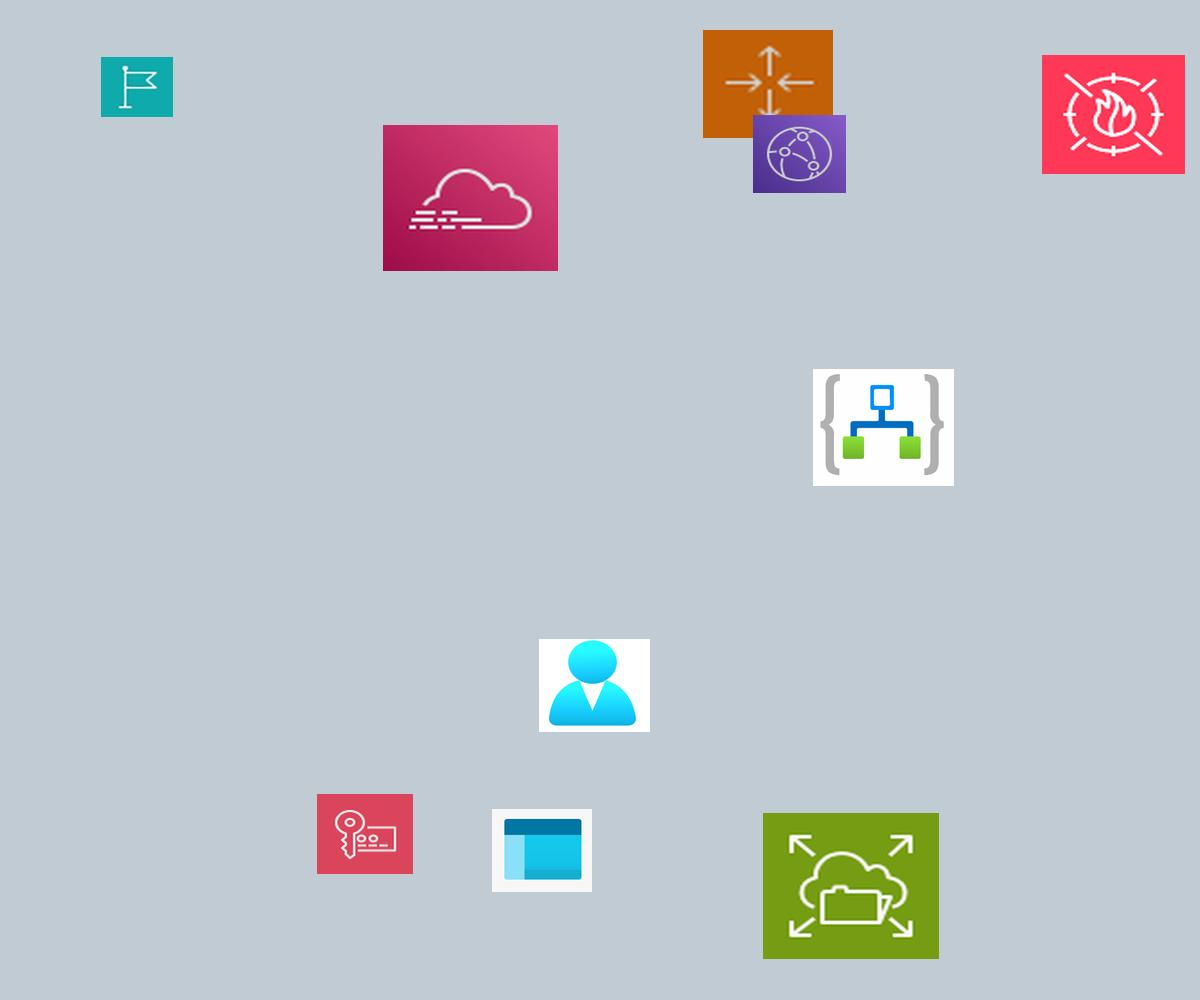AWS-CloudFront: (753, 115, 846, 193)
AWS-CloudTrail: (383, 125, 558, 271)
AWS-EFS: (763, 813, 939, 959)
AWS-Key-Management-Service: (317, 794, 413, 874)
AWS-Region: (101, 57, 173, 117)
AWS-Scaling-group: (703, 30, 833, 138)
AWS-WAF: (1042, 55, 1185, 174)
Azure_integration-204-Logic-Apps: (813, 369, 954, 486)
Azure_management-portal: (492, 809, 592, 892)
Azure_users: (539, 639, 650, 732)
